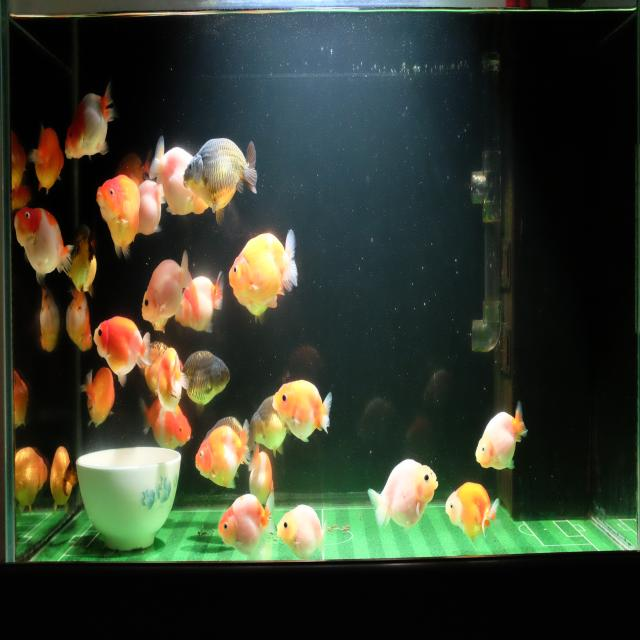Tilapia: (183, 136, 259, 228), (228, 228, 298, 309), (366, 456, 438, 533), (149, 135, 210, 219), (11, 203, 75, 283), (64, 78, 115, 163), (272, 377, 334, 446), (94, 172, 140, 264), (138, 249, 192, 326), (474, 397, 529, 471), (94, 316, 150, 388), (194, 419, 249, 491), (218, 491, 277, 557), (444, 480, 500, 546), (180, 348, 231, 417), (173, 268, 224, 334), (275, 500, 327, 562), (138, 396, 192, 455), (250, 393, 292, 457), (79, 364, 117, 432), (67, 218, 98, 300), (30, 120, 64, 194), (156, 343, 188, 416), (62, 282, 92, 359), (232, 282, 286, 324), (15, 444, 48, 512), (49, 444, 77, 517), (136, 182, 168, 242), (37, 287, 60, 354)
